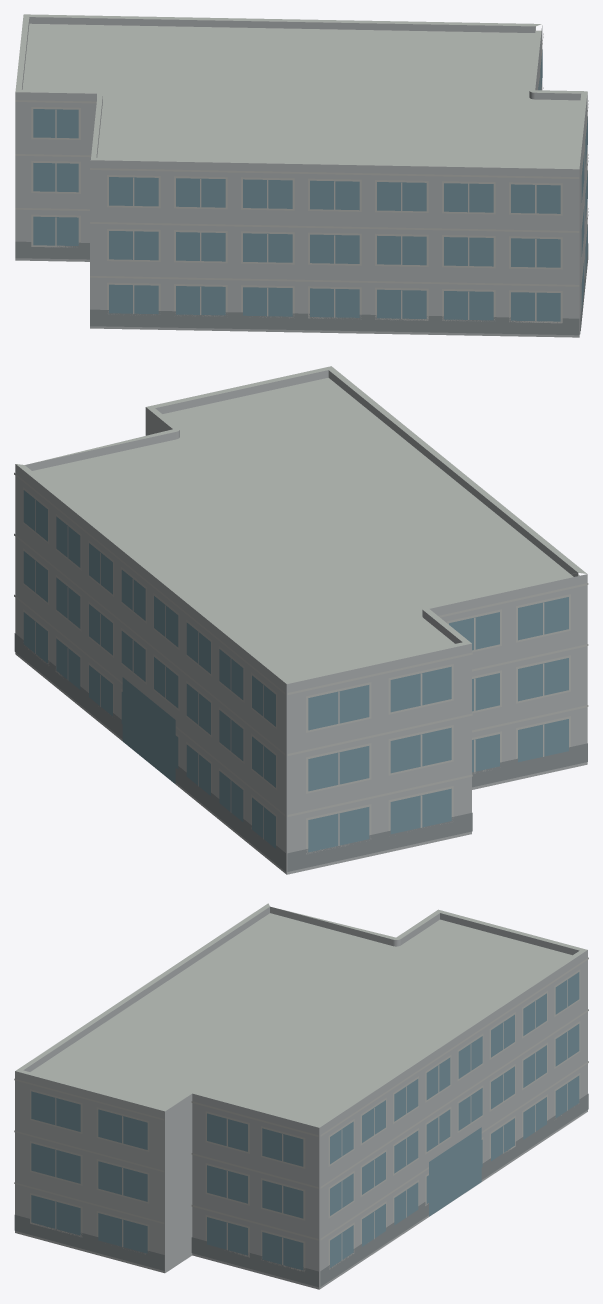
File: public-9fd860bb-ed1a-4a64-9646-e63ab27edc71.glb
The picture shows the model from 3 angles, top to bottom: view 1: azimuth 30°, elevation 25°; view 2: azimuth 150°, elevation 25°; view 3: azimuth 270°, elevation 25°; orthographic projection. The views are drawn at different scales.
Visible parts, largest first — view 1: public-9fd860bb-ed1a-4a64-9646-e63ab27edc71; view 2: public-9fd860bb-ed1a-4a64-9646-e63ab27edc71; view 3: public-9fd860bb-ed1a-4a64-9646-e63ab27edc71.
Boxes of the visible parts, x1,y1,x2,y2 form: public-9fd860bb-ed1a-4a64-9646-e63ab27edc71: [15, 14, 588, 337]; public-9fd860bb-ed1a-4a64-9646-e63ab27edc71: [14, 366, 588, 874]; public-9fd860bb-ed1a-4a64-9646-e63ab27edc71: [14, 903, 588, 1289].
Bounding box in the file's own units: 27.35 × 9.15 × 29.45.
